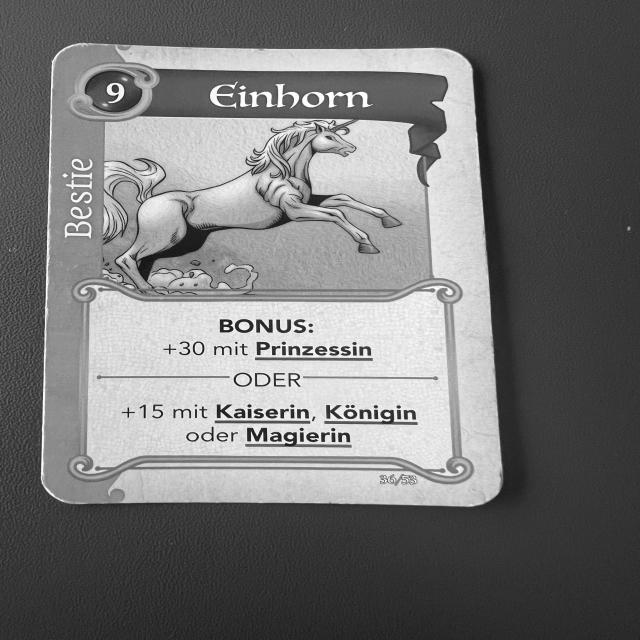Unicorn: (33, 39, 511, 517)
